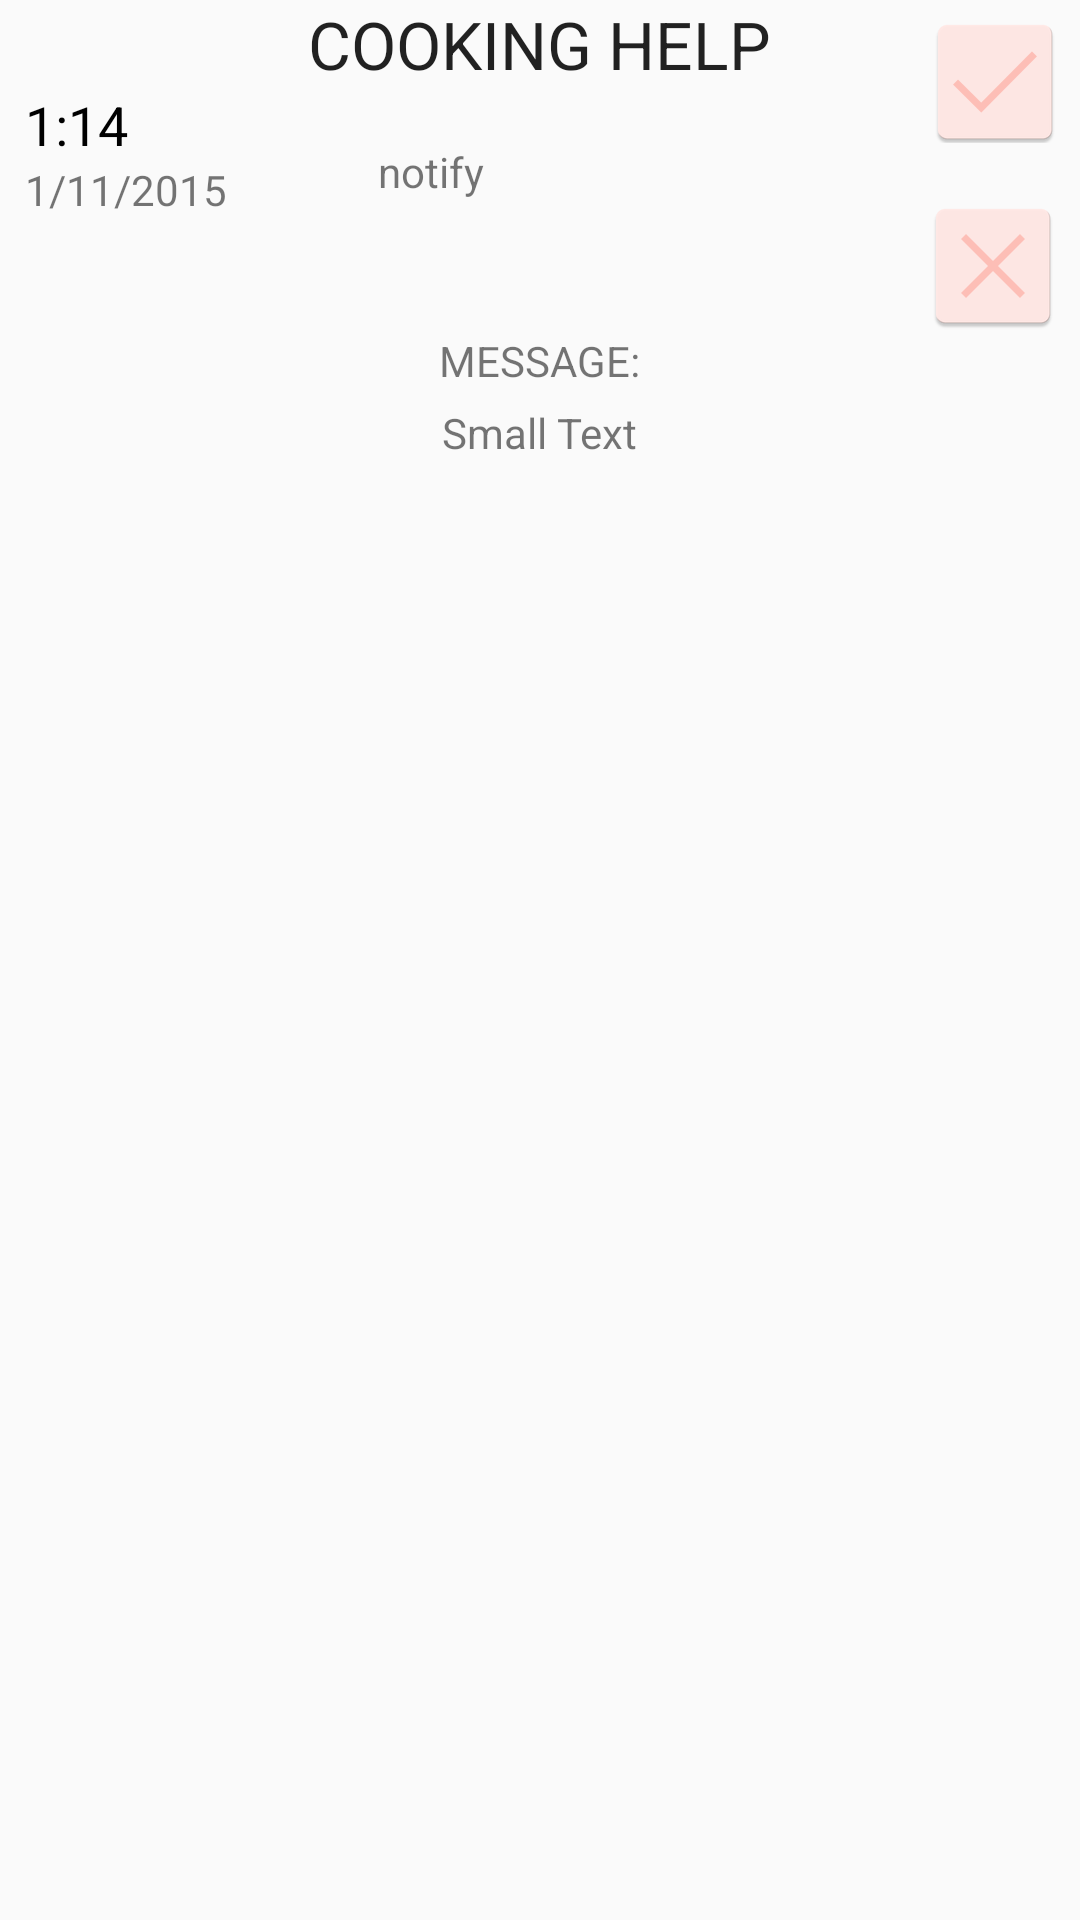

Icons on this 1080 × 1920 Android screen, each with the point to tap as (x=x, y=y):
accept: (x=995, y=84)
ignore: (x=993, y=268)
